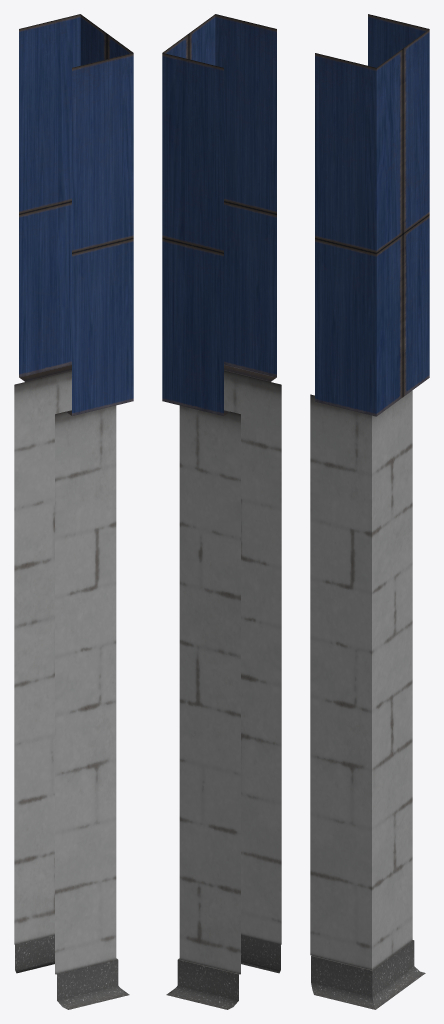
File: Cafateria Pillar 2.fbx
3 renders of one model, left to right at view 1: azimuth 30°, elevation 25°; view 2: azimuth 150°, elevation 25°; view 3: azimuth 330°, elevation 25°, orthographic.
Visible parts, largest first — view 1: Cafateria_Pillar_2; view 2: Cafateria_Pillar_2; view 3: Cafateria_Pillar_2.
Part boxes in pixels (left/top/right/bottom): Cafateria_Pillar_2: left=14, top=14, right=133, bottom=1009; Cafateria_Pillar_2: left=162, top=14, right=281, bottom=1009; Cafateria_Pillar_2: left=310, top=14, right=429, bottom=1009.
Bounding box in the file's own units: 33.4 × 416 × 42.43.
